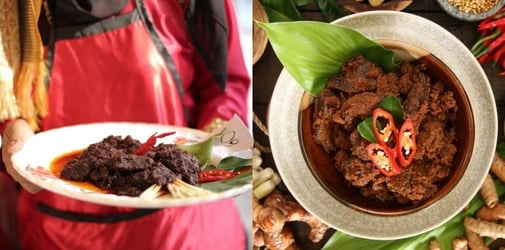rendang: (314, 56, 457, 206), (61, 136, 198, 196)
